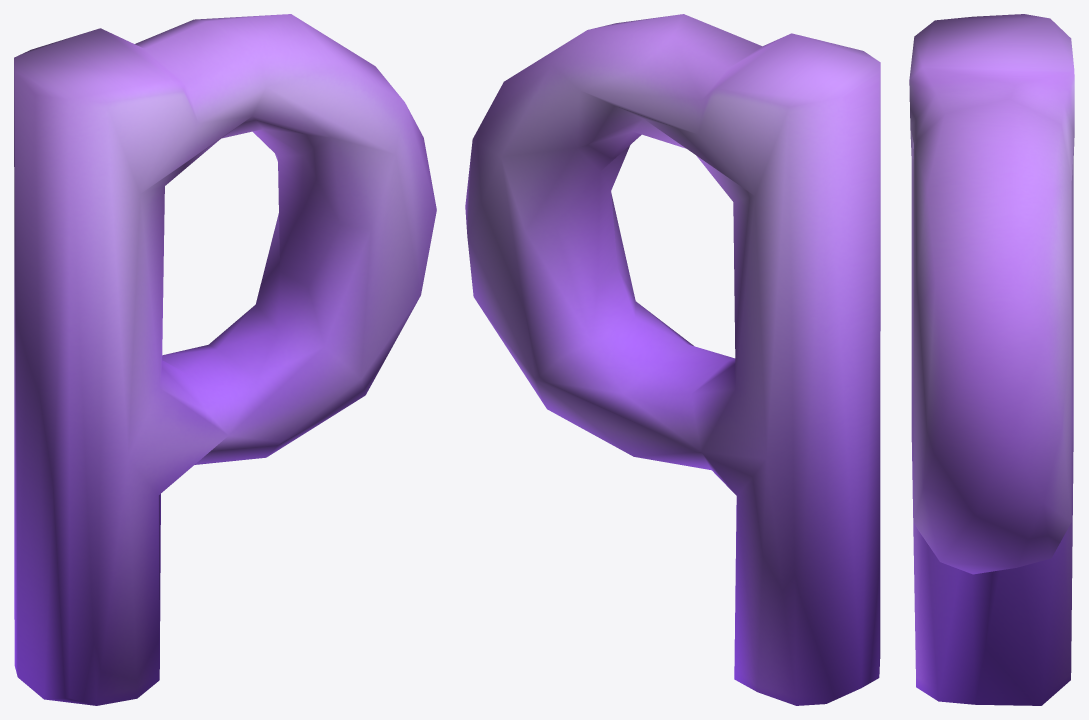
3 views of the same model, side by side, from view 1: azimuth 30°, elevation 25°; view 2: azimuth 150°, elevation 25°; view 3: azimuth 270°, elevation 25° (orthographic). The views are drawn at different scales.
Visible parts, largest first — view 1: Processed_Mesh0_Geometry; view 2: Processed_Mesh0_Geometry; view 3: Processed_Mesh0_Geometry.
Boxes of the visible parts, <box> form: Processed_Mesh0_Geometry: <box>14,14,436,705</box>; Processed_Mesh0_Geometry: <box>465,14,880,705</box>; Processed_Mesh0_Geometry: <box>909,14,1074,705</box>.
Size of what is drawn, in the model's own units: 0.0559 by 0.0847 by 0.0192.
Materials: 1 (1 with a texture image).
